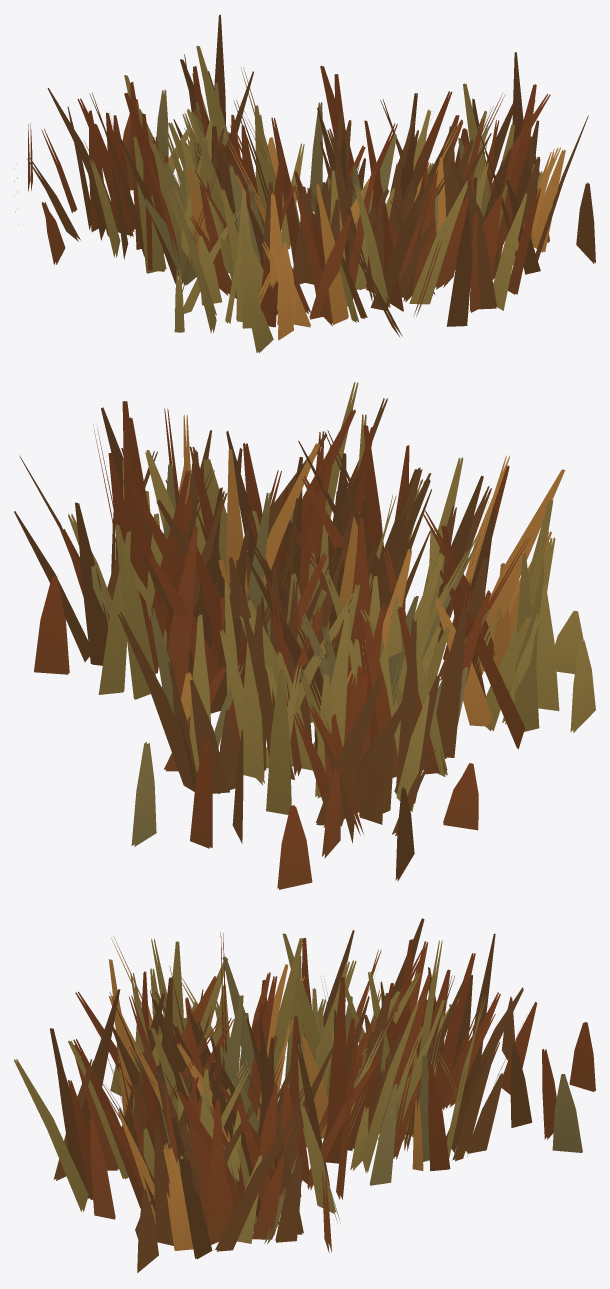
Rendered from VerGrass05.glb.
The picture shows the model from 3 angles, top to bottom: view 1: azimuth 30°, elevation 25°; view 2: azimuth 150°, elevation 25°; view 3: azimuth 270°, elevation 25°; orthographic projection. The views are drawn at different scales.
Parts seen in each view (by area): view 1: VerGrass05_blades; view 2: VerGrass05_blades; view 3: VerGrass05_blades.
Part boxes in pixels (x1=…): VerGrass05_blades: x1=14, y1=14, x2=595, y2=352; VerGrass05_blades: x1=14, y1=382, x2=595, y2=889; VerGrass05_blades: x1=14, y1=918, x2=595, y2=1272.
Size of the model in its own units: 2.27 by 0.8559 by 2.62.
